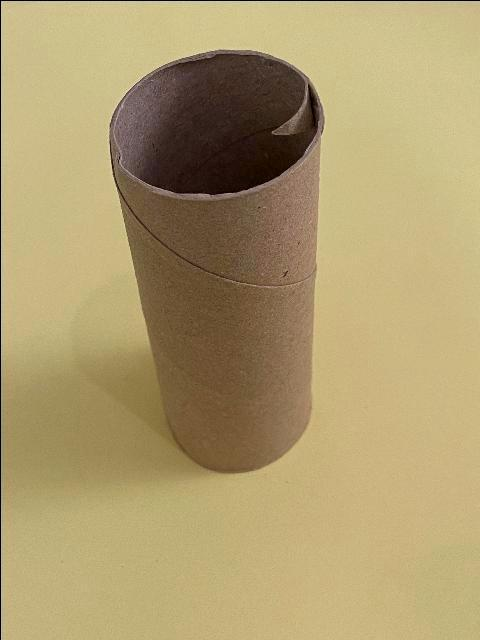tissueroll: (107, 45, 325, 475)
